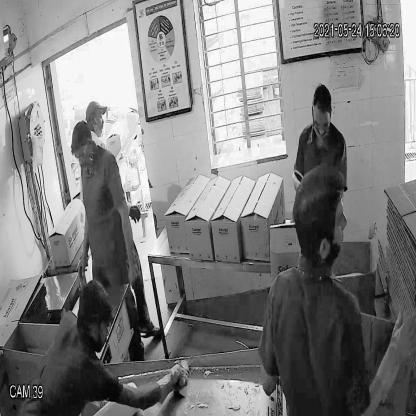goggles: (312, 110, 332, 132)
